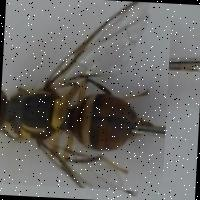Oriental-fruit-fly: (0, 0, 171, 192)
